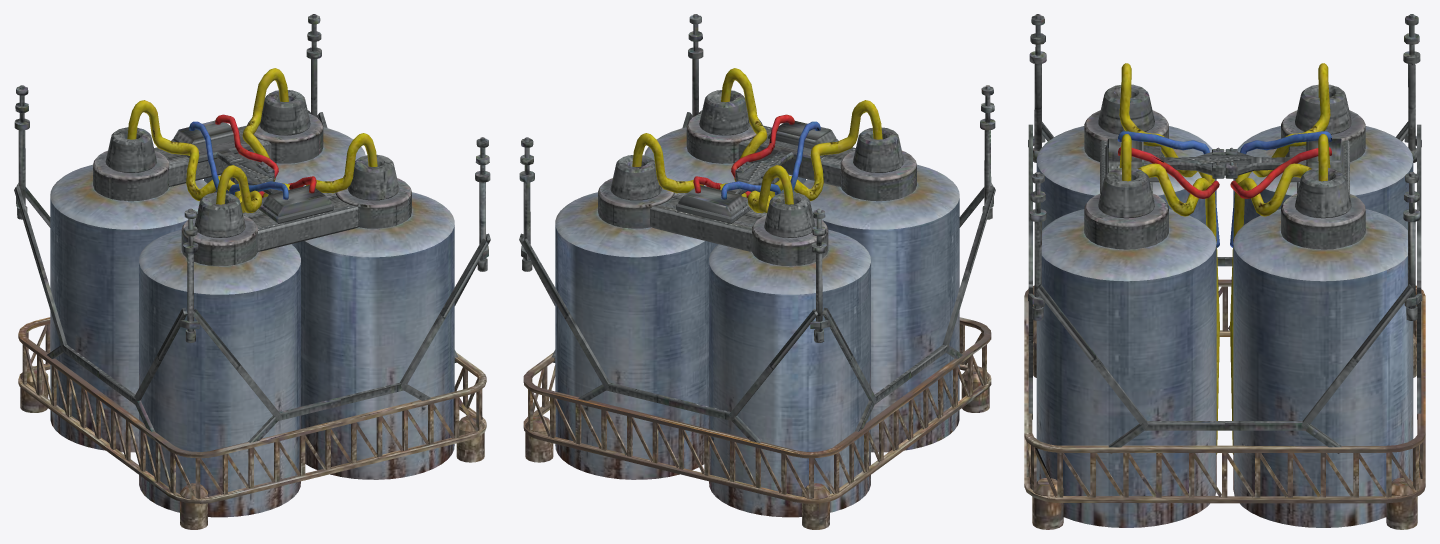
File: accumulator.glb
3 renders of one model, left to right at view 1: azimuth 30°, elevation 25°; view 2: azimuth 150°, elevation 25°; view 3: azimuth 270°, elevation 25°, orthographic. The views are drawn at different scales.
Visible parts, largest first — view 1: body; view 2: body; view 3: body.
Part boxes in pixels (x1,y1,x2,y2): body: (14,14,490,529); body: (519,14,995,529); body: (1024,14,1425,529).
Bounding box in the file's own units: 2.02 × 1.97 × 2.02.
Materials: 1 (1 with a texture image).
